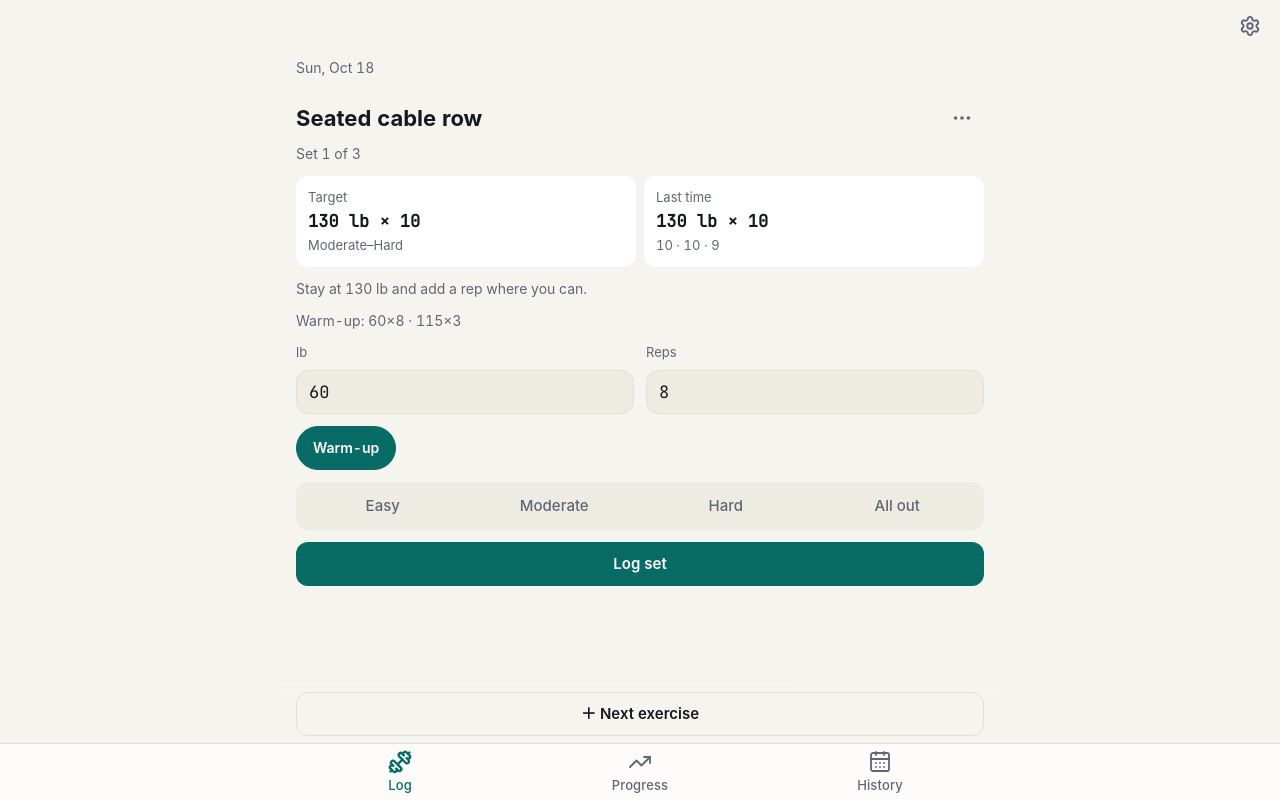
Test case: log screen › a failed save keeps everything typed and logs nothing (review focus 3)
Click the button "Warm-up": point(346, 448) [296,426,396,470]
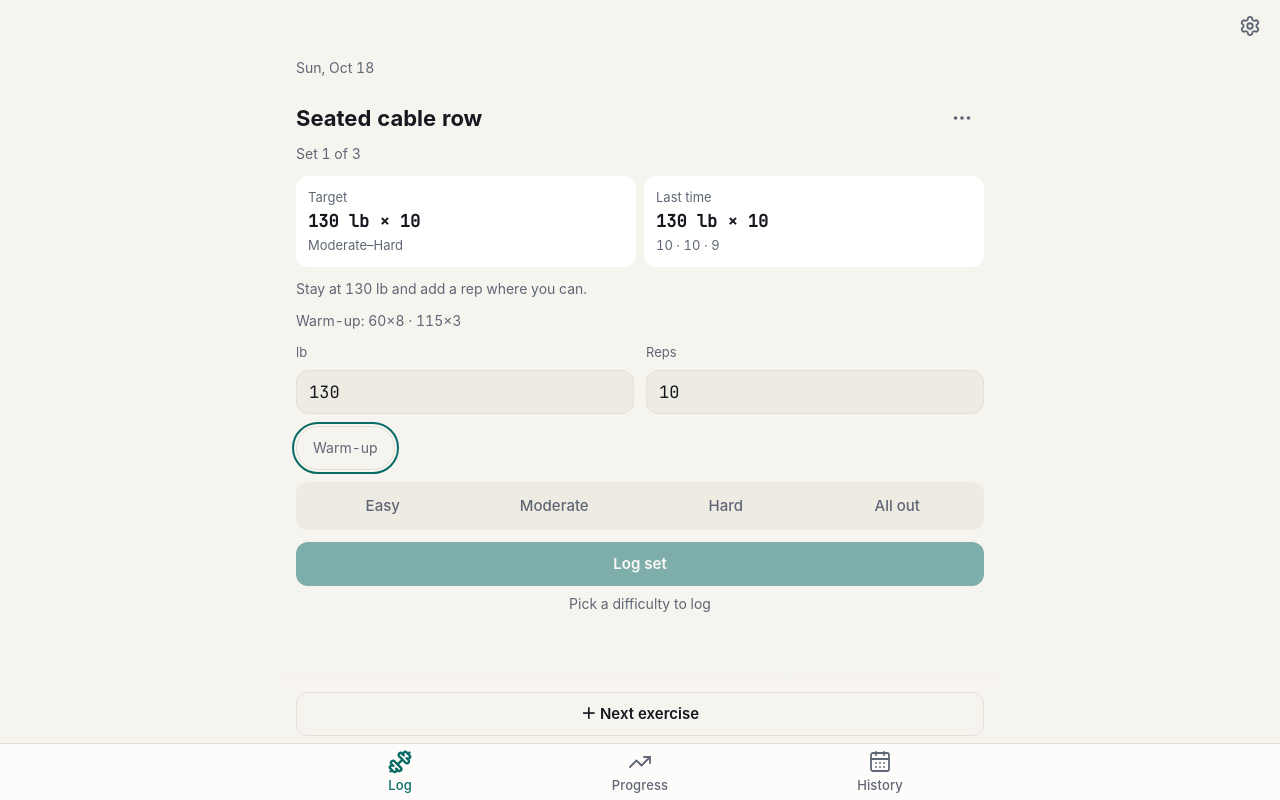
In the field named "Weight, lb": point(465, 392) [296,370,634,414], type "145"
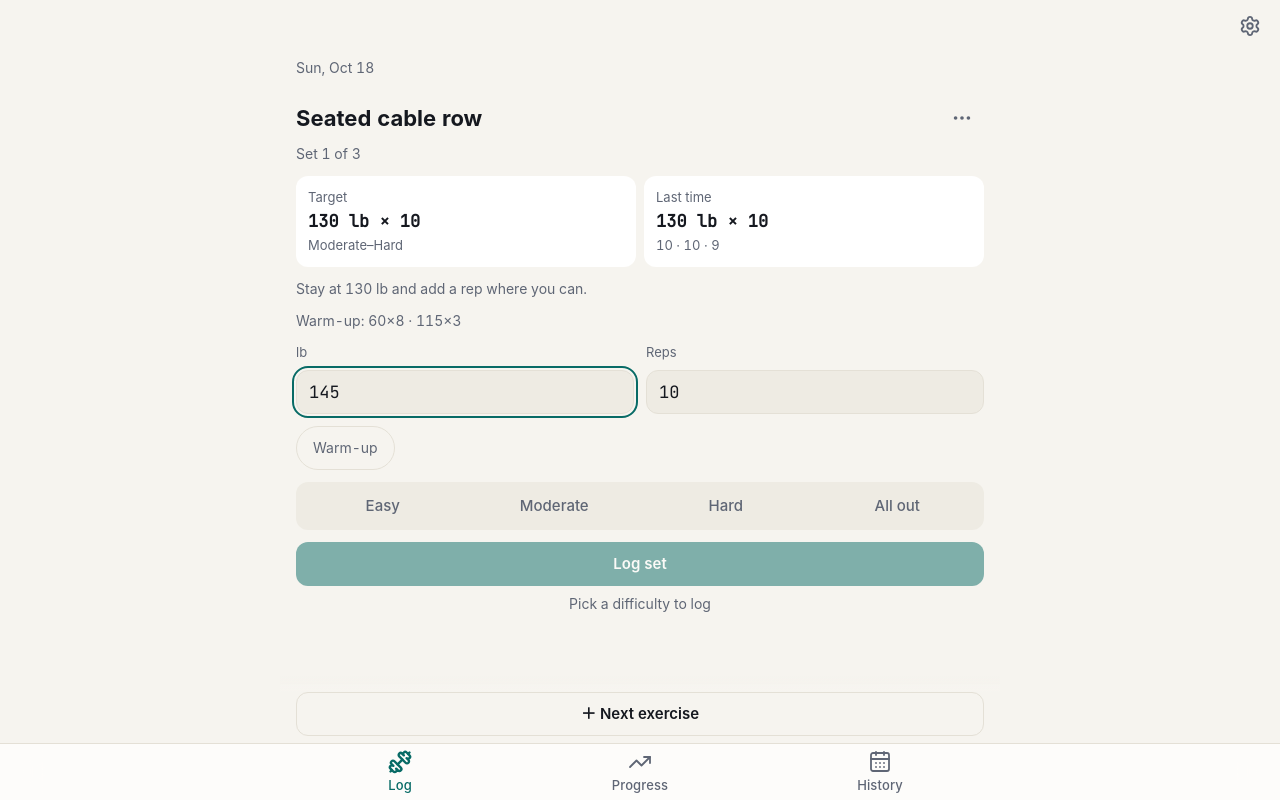
Click the radio button labelled "Hard": point(726, 506) [641,484,810,528]
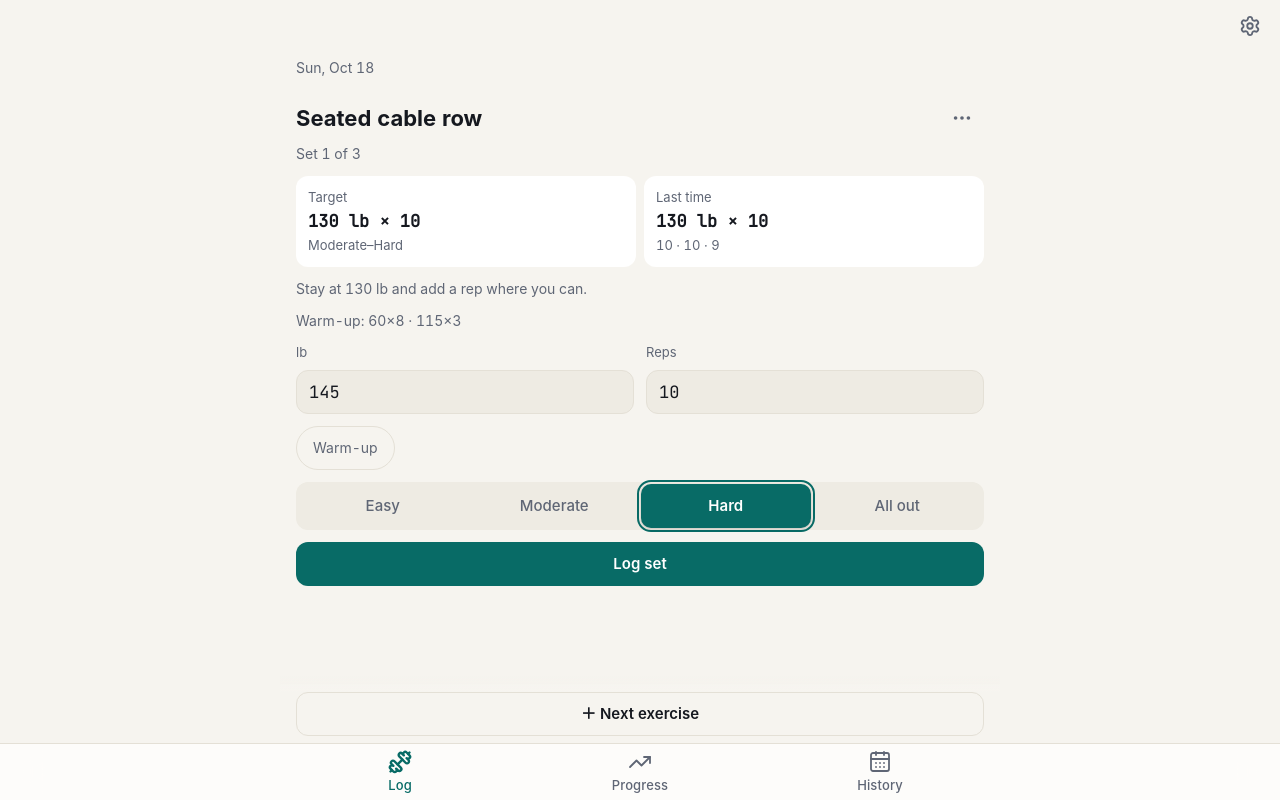
Click the button "Log set": point(640, 564) [296,542,984,586]
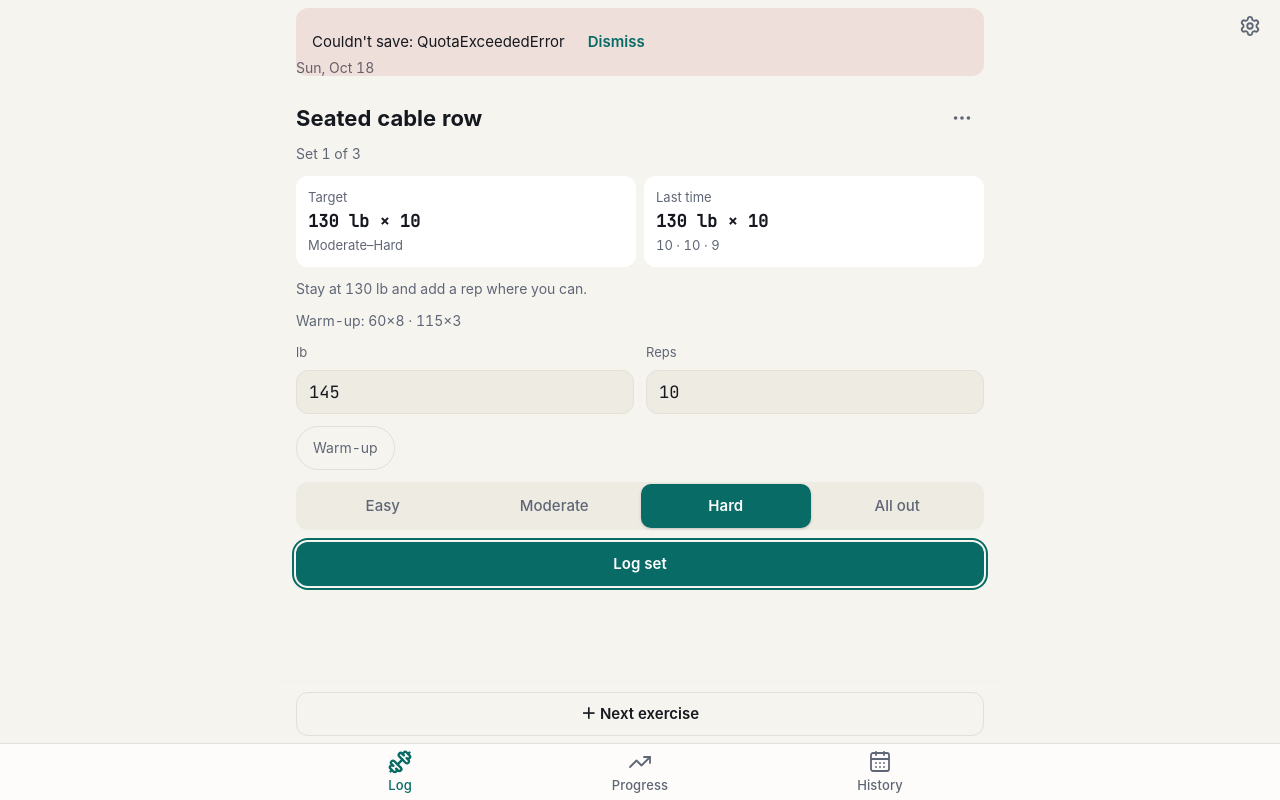
Expected: the text "Set 1 of 3" is shown, [296,145,361,162]
Result: the message shows "Couldn't save" at [312,32,565,51]
